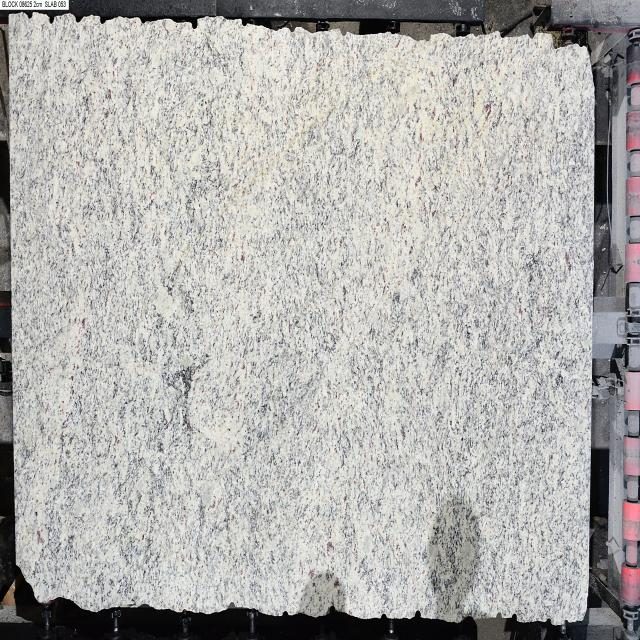chapa: (10, 17, 594, 624)
veio: (189, 16, 201, 34), (97, 15, 107, 27), (74, 14, 84, 24), (26, 10, 34, 21), (414, 608, 422, 618), (496, 608, 502, 619), (50, 15, 56, 25), (512, 611, 518, 621)
